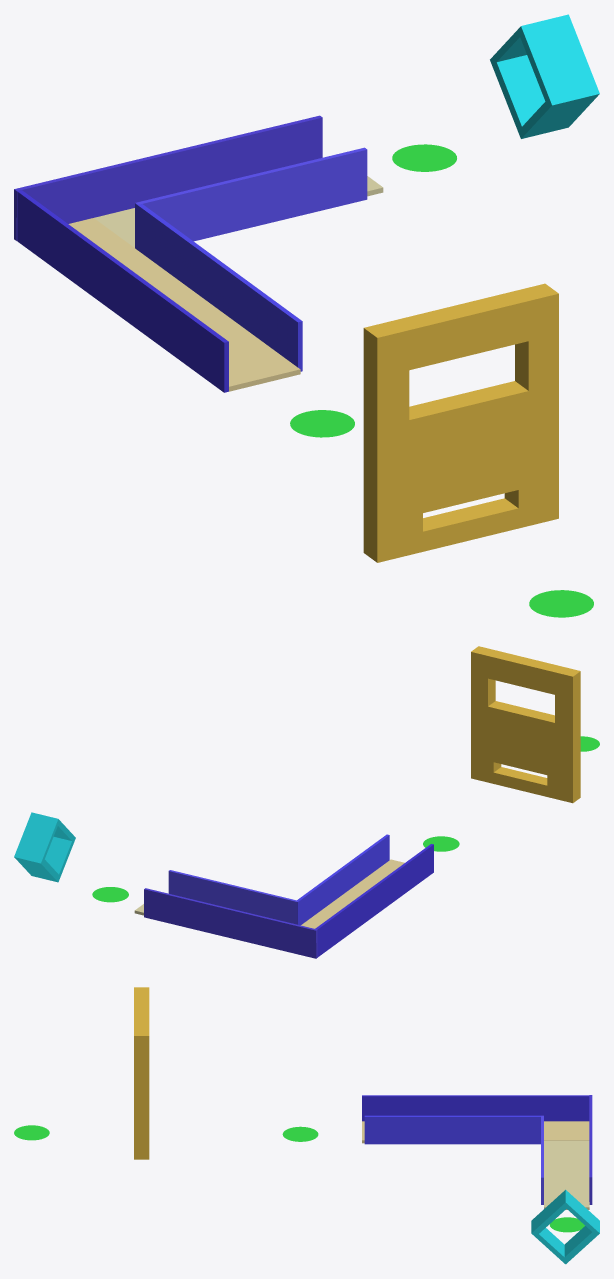
Rendered from vision.glb.
The picture shows the model from 3 angles, top to bottom: view 1: azimuth 30°, elevation 25°; view 2: azimuth 150°, elevation 25°; view 3: azimuth 270°, elevation 25°; orthographic projection. The views are drawn at different scales.
Parts seen in each view (by area): view 1: Cube, Cube.004, Cube.001, Cube.005, Cube.007, Cube.003, Cube.002, Circle, Circle.001, Circle.002, Cube.006; view 2: Cube, Cube.004, Cube.001, Cube.005, Cube.007, Cube.003, Cube.002, Circle.002, Circle.001; view 3: Cube.003, Cube.001, Cube.006, Cube, Cube.007, Cube.002, Circle, Circle.001, Cube.004, Circle.002.
Boxes of the visible parts, x1,y1,x2,y2 form: Cube: [363, 283, 558, 562]; Cube.004: [14, 115, 322, 240]; Cube.001: [17, 190, 228, 392]; Cube.005: [135, 147, 367, 241]; Cube.007: [490, 14, 599, 138]; Cube.003: [135, 203, 302, 371]; Cube.002: [68, 218, 300, 391]; Circle: [529, 590, 593, 617]; Circle.001: [290, 410, 354, 437]; Circle.002: [392, 144, 456, 171]; Cube.006: [94, 176, 383, 247]; Cube: [471, 646, 580, 803]; Cube.004: [144, 888, 317, 958]; Cube.001: [315, 844, 433, 957]; Cube.005: [168, 870, 298, 924]; Cube.007: [14, 812, 75, 882]; Cube.003: [297, 834, 389, 925]; Cube.002: [301, 859, 404, 928]; Circle.002: [92, 887, 128, 902]; Circle.001: [423, 836, 459, 851]; Cube.003: [364, 1115, 540, 1144]; Cube.001: [362, 1095, 589, 1121]; Cube.006: [544, 1140, 589, 1209]; Cube: [134, 987, 149, 1159]; Cube.007: [531, 1189, 599, 1264]; Cube.002: [362, 1121, 589, 1143]; Circle: [14, 1125, 49, 1140]; Circle.001: [282, 1126, 318, 1141]; Cube.004: [589, 1095, 592, 1204]; Circle.002: [549, 1217, 584, 1232].
Bounding box in the file's own units: 12.22 × 4.5 × 19.32.
